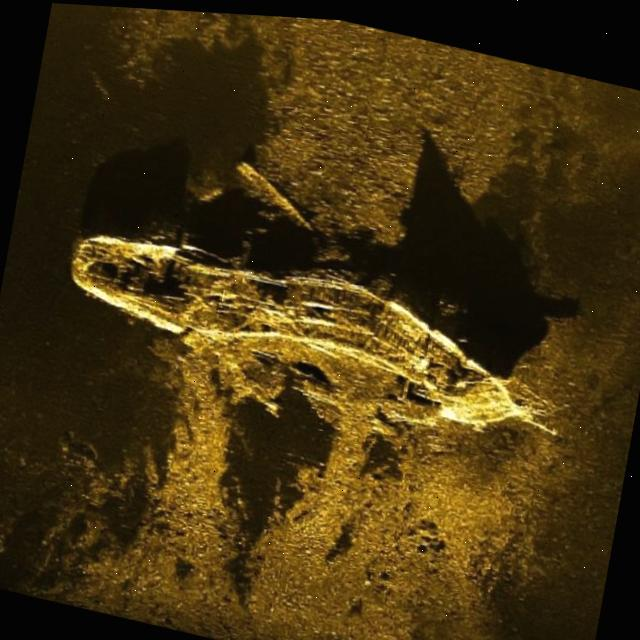shipwreck: (52, 207, 549, 439)
